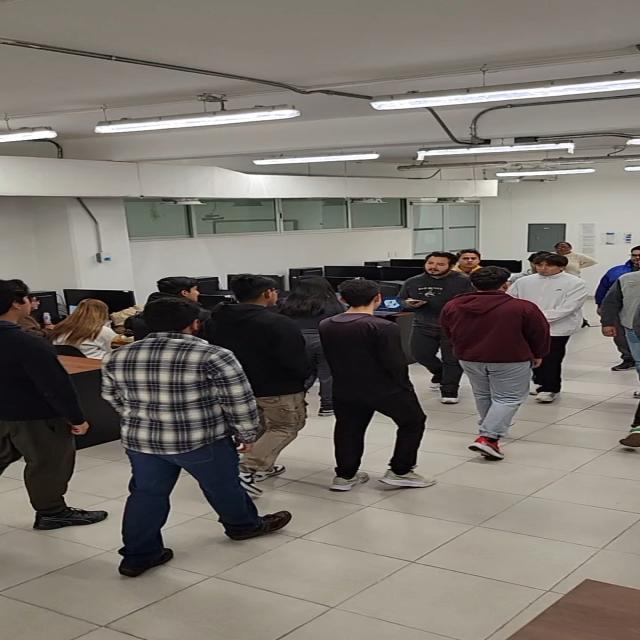Persona: (116, 302, 257, 563), (331, 278, 422, 494), (220, 275, 309, 481), (456, 268, 535, 453), (520, 255, 586, 400), (408, 249, 466, 303), (554, 236, 588, 264)
